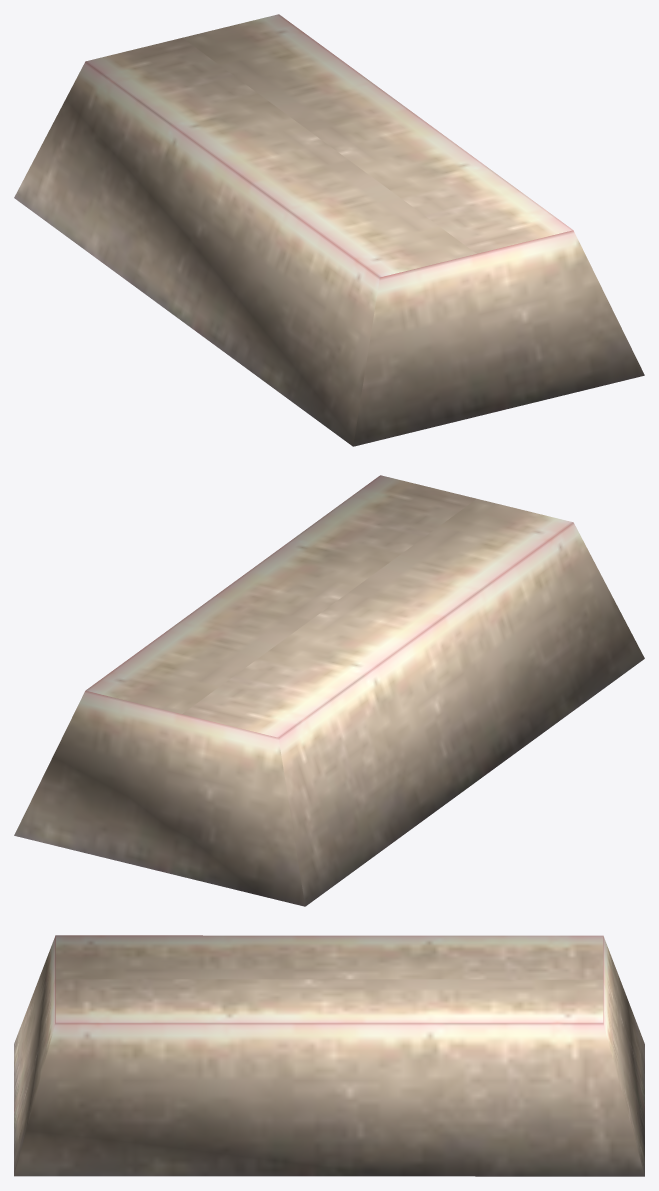
The model's file is SYN_WHITE_GOLD_BAR.glb.
The picture shows the model from 3 angles, top to bottom: view 1: azimuth 30°, elevation 25°; view 2: azimuth 150°, elevation 25°; view 3: azimuth 270°, elevation 25°; orthographic projection. The views are drawn at different scales.
Visible parts, largest first — view 1: Mesh; view 2: Mesh; view 3: Mesh.
Boxes of the visible parts, bbox=[...] form: Mesh: bbox=[14, 14, 644, 446]; Mesh: bbox=[14, 475, 644, 906]; Mesh: bbox=[14, 935, 644, 1176].
Size of the model in its own units: 0.1875 by 0.0864 by 0.3774.
Materials: 1 (1 with a texture image).
